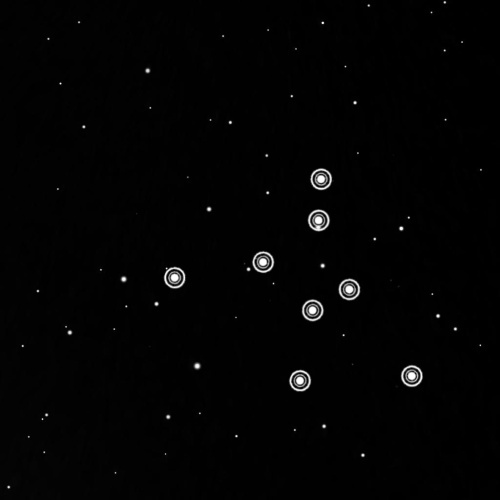hercules: (160, 162, 426, 401)
